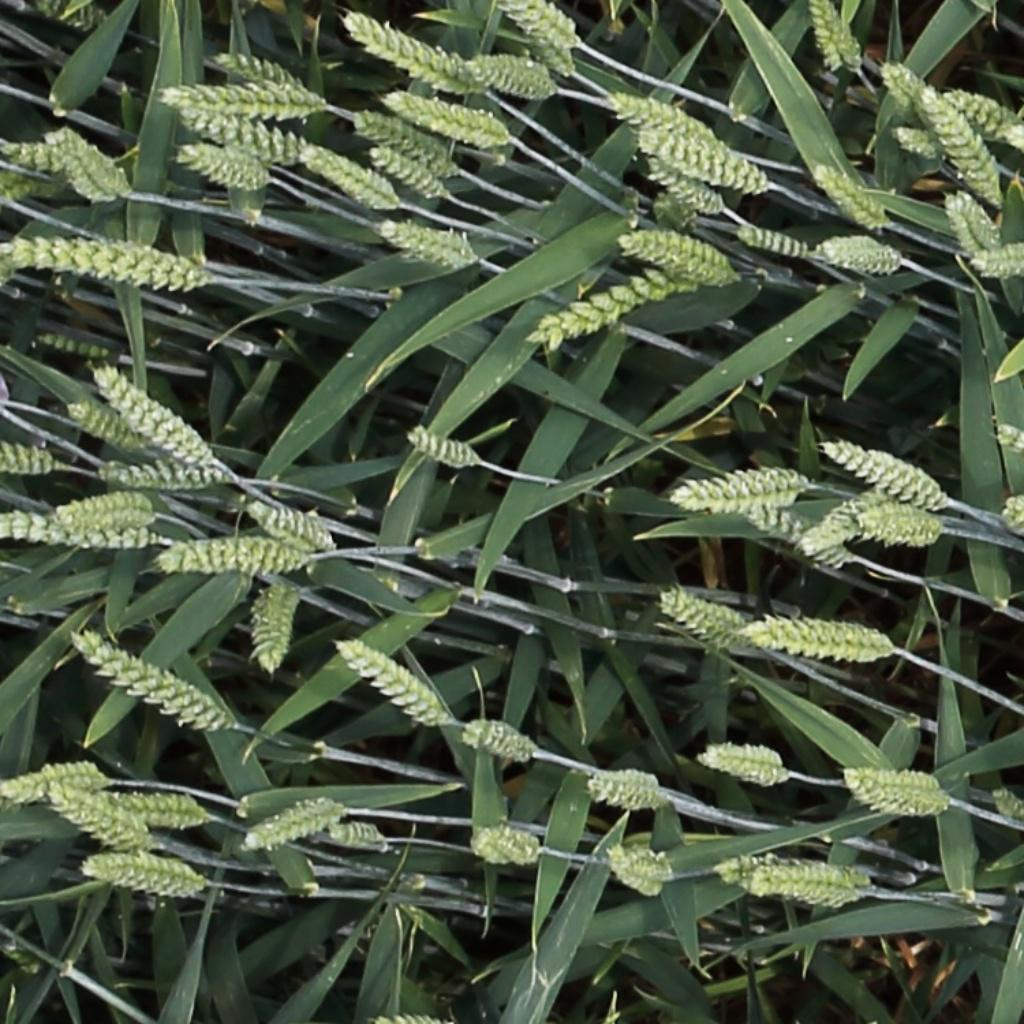0-0: (69, 634, 225, 729), (708, 481, 850, 579), (91, 364, 210, 465), (0, 232, 205, 287), (918, 83, 1008, 207), (342, 13, 479, 91), (331, 638, 445, 727), (636, 128, 771, 194), (166, 98, 300, 161), (823, 438, 942, 506), (349, 109, 462, 174), (51, 790, 161, 854), (382, 90, 506, 146), (606, 88, 719, 146), (300, 146, 405, 208), (619, 233, 742, 285), (0, 508, 156, 547), (80, 782, 204, 830), (839, 759, 943, 816), (660, 592, 755, 649), (745, 620, 887, 658), (50, 125, 121, 200), (811, 161, 887, 228), (506, 4, 576, 76), (240, 796, 334, 849), (80, 854, 192, 897), (735, 875, 865, 911), (645, 151, 720, 212), (375, 219, 470, 267), (244, 499, 331, 551), (714, 859, 854, 891), (212, 51, 309, 96), (468, 57, 558, 105), (674, 471, 801, 505), (811, 487, 891, 540), (177, 140, 271, 185), (158, 541, 303, 570), (367, 141, 442, 196), (64, 400, 141, 453), (255, 580, 296, 678), (939, 187, 992, 260), (811, 0, 861, 77), (697, 745, 790, 785), (4, 761, 99, 800), (944, 90, 1021, 136), (512, 0, 577, 47), (0, 128, 73, 169), (602, 849, 668, 894), (876, 60, 929, 116), (819, 233, 899, 270), (458, 724, 535, 761), (402, 427, 476, 465), (469, 824, 539, 864), (99, 466, 221, 487), (585, 772, 654, 808), (734, 222, 812, 253), (54, 494, 146, 520), (853, 517, 940, 542), (28, 333, 117, 357), (34, 2, 102, 32), (996, 423, 1024, 494), (973, 242, 1024, 280), (891, 124, 940, 155), (0, 445, 51, 471), (324, 826, 383, 847), (991, 791, 1024, 827), (1006, 499, 1024, 543)
